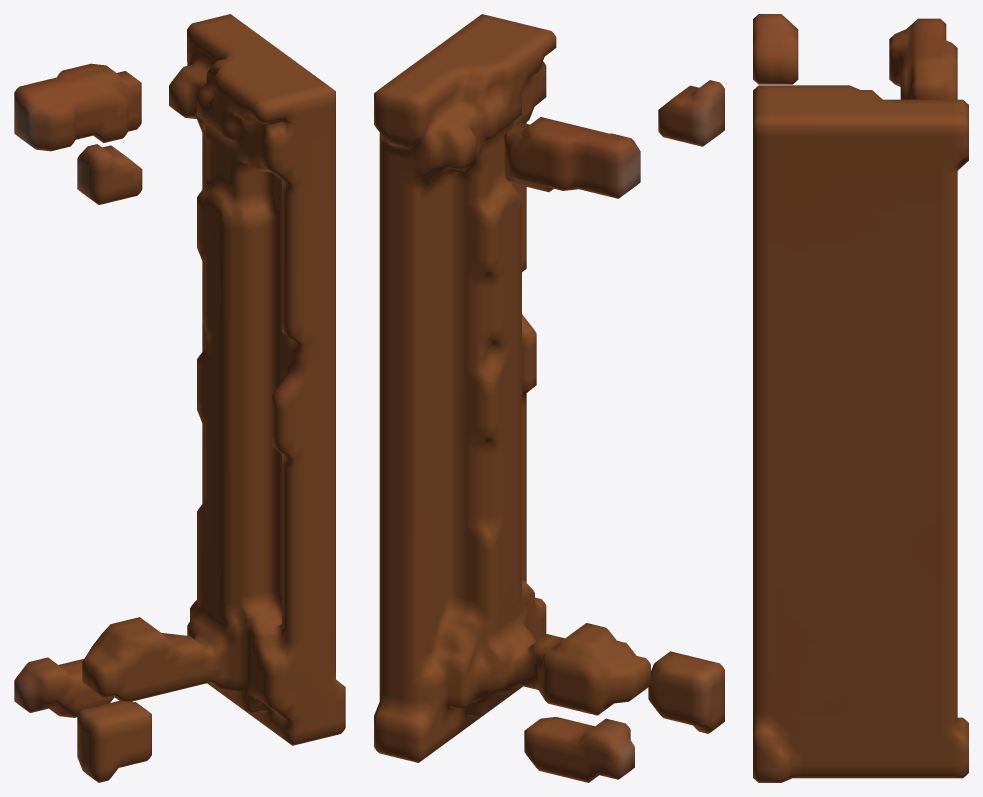
File: its a long table,the colour is brown.its foe offic.glb
3 renders of one model, left to right at view 1: azimuth 30°, elevation 25°; view 2: azimuth 150°, elevation 25°; view 3: azimuth 270°, elevation 25°, orthographic. The views are drawn at different scales.
Parts seen in each view (by area): view 1: its a long table,the colour is brown.its foe offic; view 2: its a long table,the colour is brown.its foe offic; view 3: its a long table,the colour is brown.its foe offic.
Part boxes in pixels (box(x1,y1,x2,y2)): its a long table,the colour is brown.its foe offic: box(14, 14, 345, 782); its a long table,the colour is brown.its foe offic: box(374, 14, 724, 782); its a long table,the colour is brown.its foe offic: box(753, 14, 968, 782).
Bounding box in the file's own units: 26 × 64 × 19.
